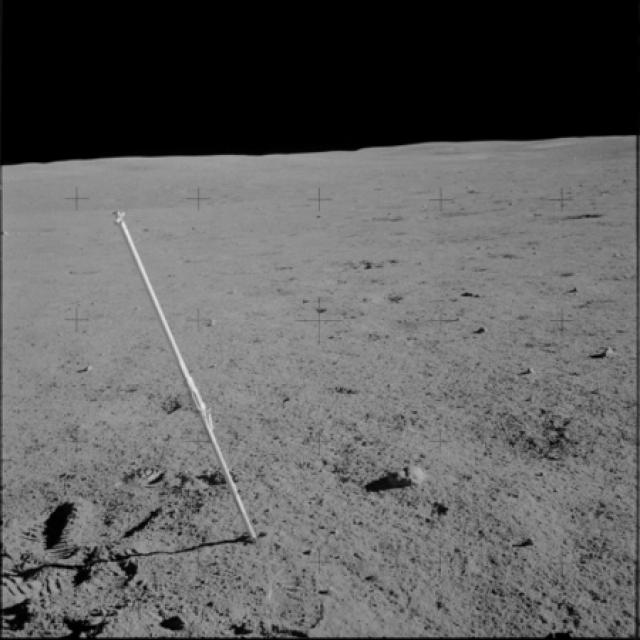crater: (372, 407, 637, 486), (86, 389, 199, 432), (220, 379, 300, 418), (308, 380, 365, 407), (357, 290, 411, 313)
rock: (383, 460, 428, 496), (514, 358, 544, 381), (467, 324, 496, 343), (594, 341, 620, 361)
